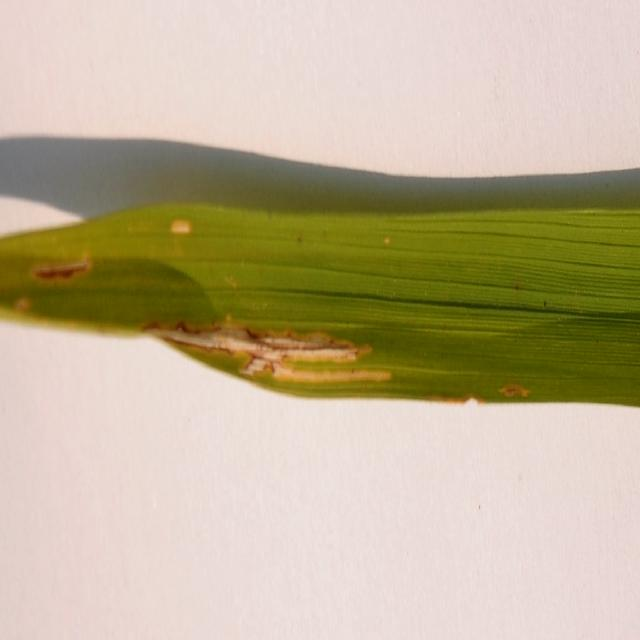Unhealthy: (144, 321, 393, 385), (34, 264, 87, 283), (500, 383, 532, 401), (171, 218, 191, 236), (18, 293, 29, 311), (516, 285, 518, 292)
